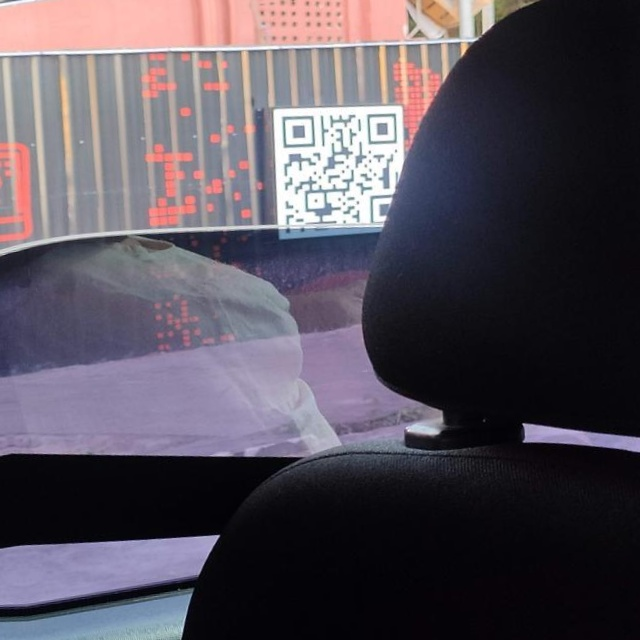qr-code: (274, 106, 408, 235)
